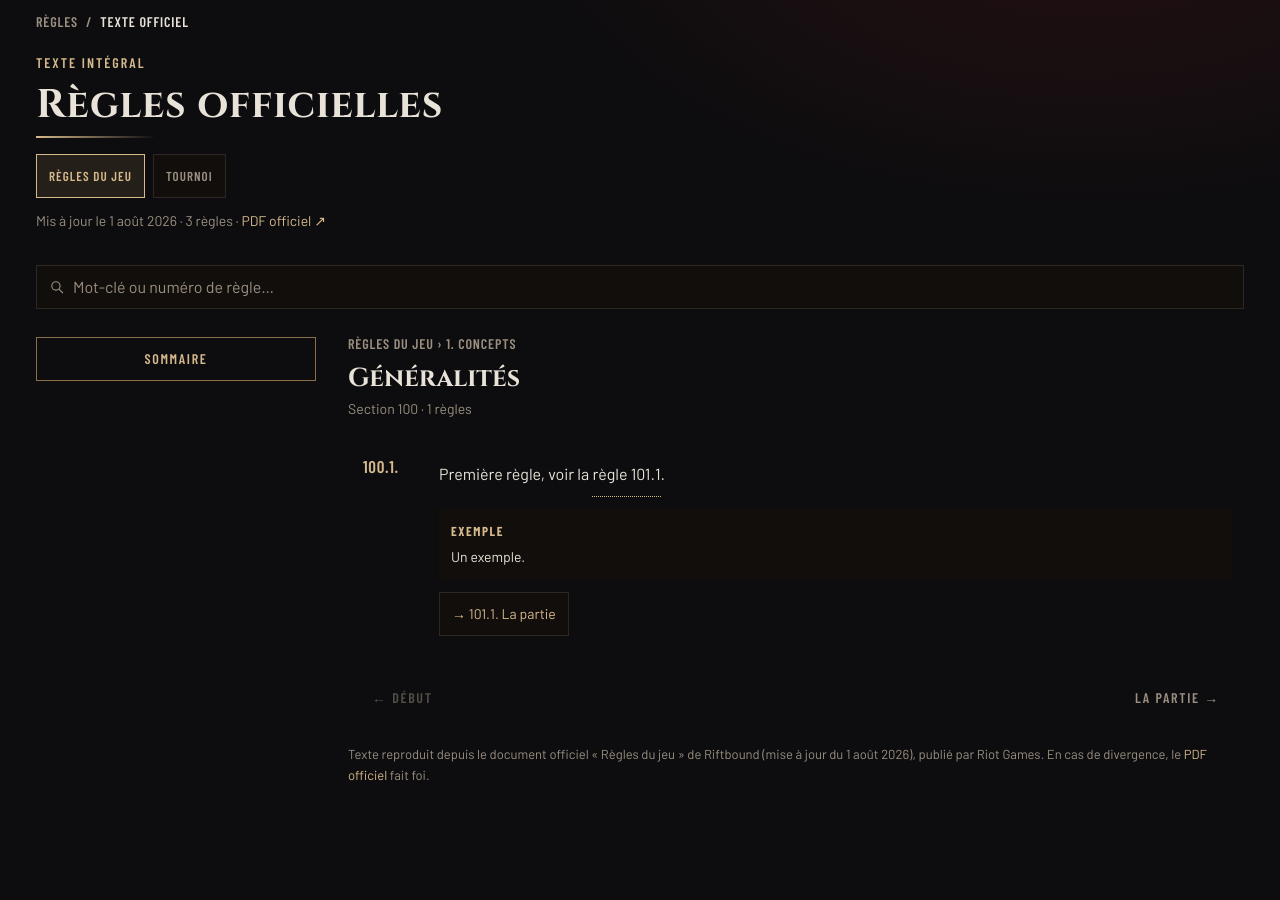
Test: RulesView : table des matières › téléphone : sommaire en feuille ; choisir une section ferme la feuille
Click the button "Sommaire": (176, 359) [36, 337, 316, 381]
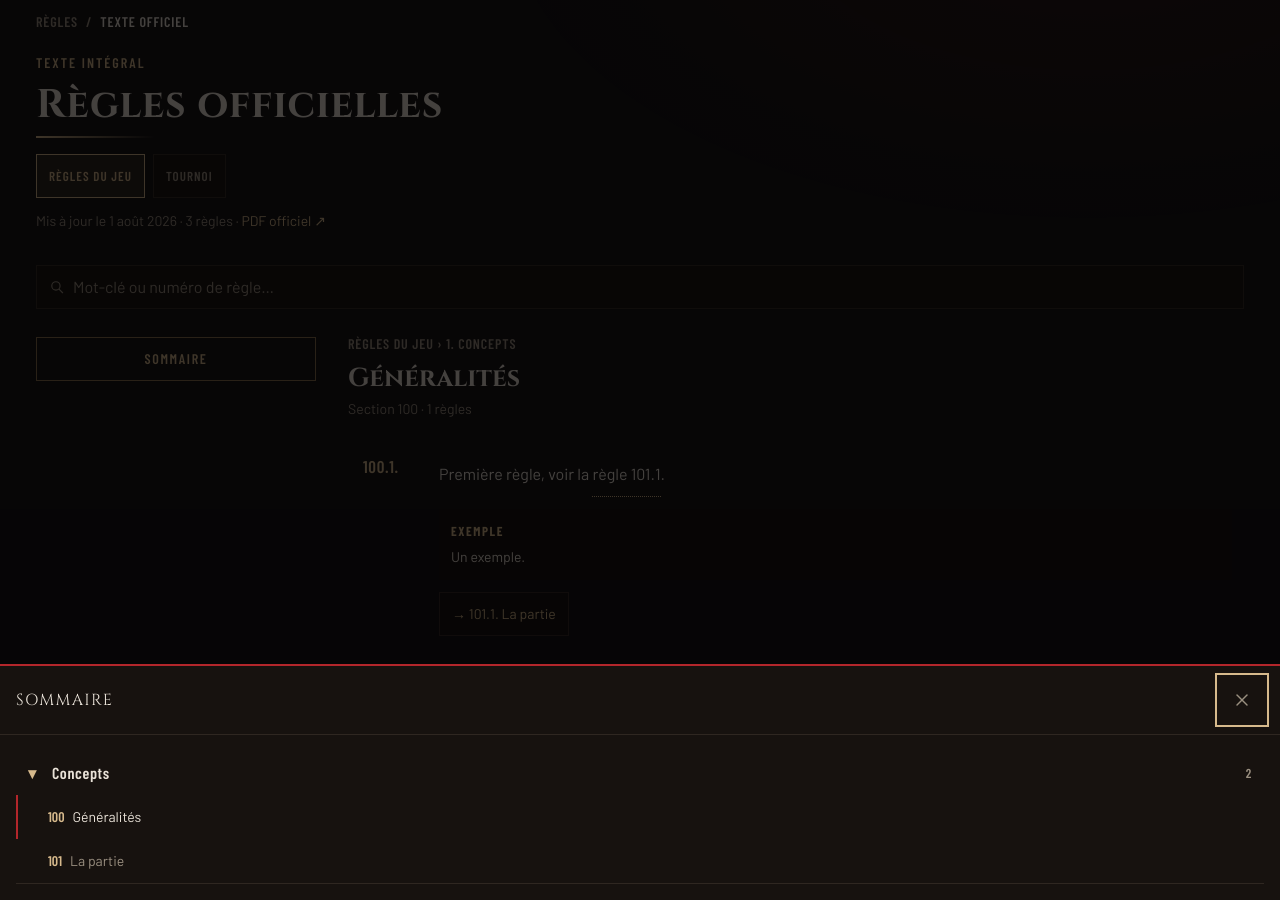
Check: the dialog is shown, box [0, 664, 1279, 899]
Click the button with class "officiel-toc-section" showing "101 La partie": (97, 860) [16, 839, 1264, 883]
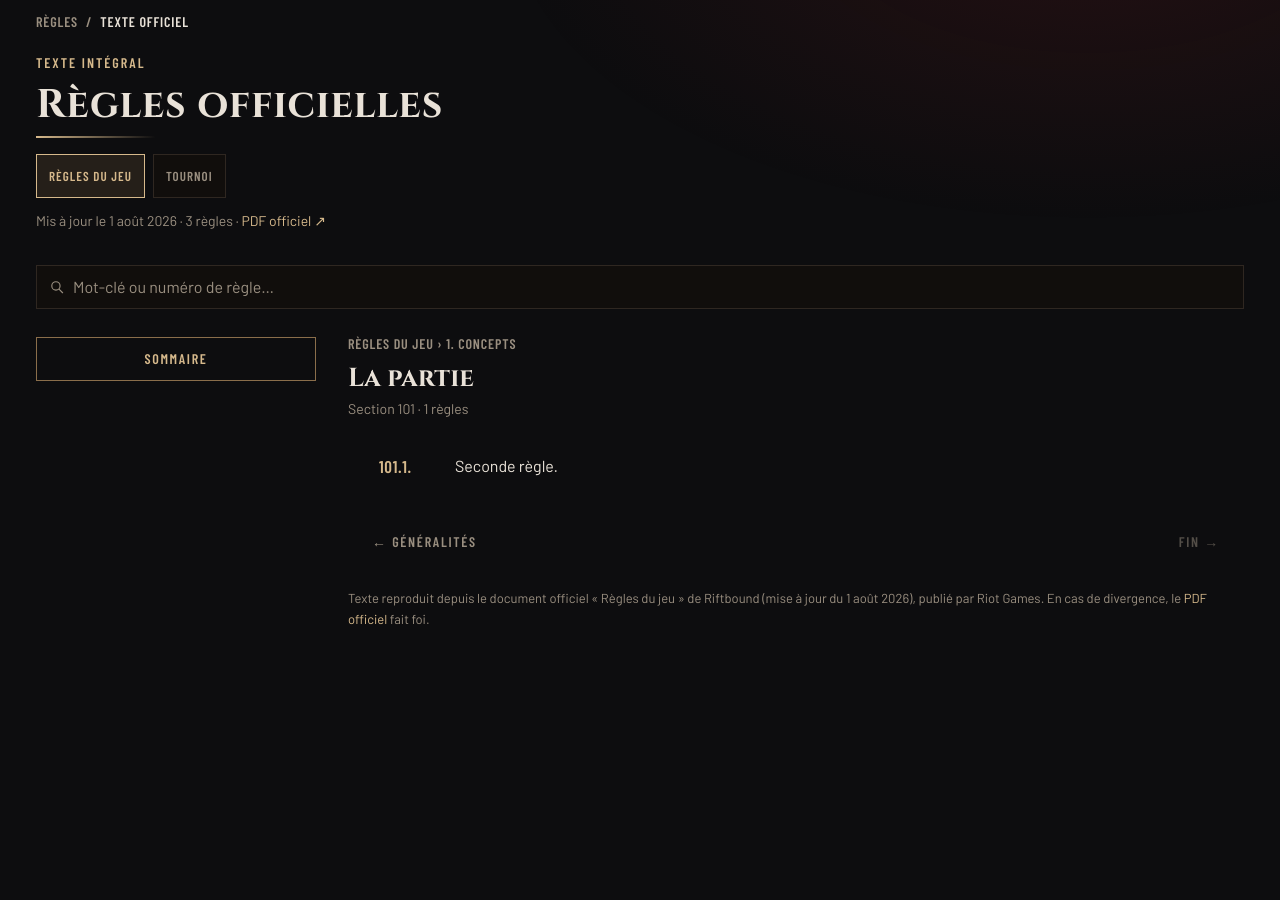
Check: the dialog is gone
Check: the heading with class "officiel-title" reads "La partie", box [348, 361, 474, 396]
